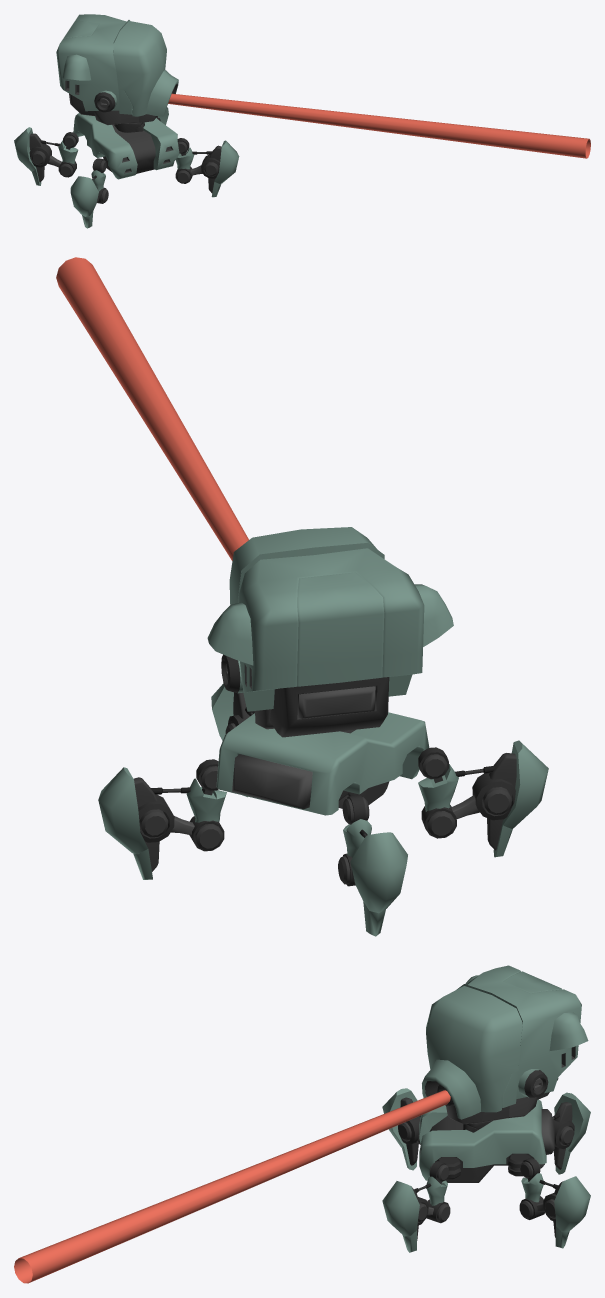
File: 4legMech-1.fbx
The picture shows the model from 3 angles, top to bottom: view 1: azimuth 30°, elevation 25°; view 2: azimuth 150°, elevation 25°; view 3: azimuth 270°, elevation 25°; orthographic projection. The views are drawn at different scales.
Parts seen in each view (by area): view 1: Cylinder, Cube, Cube.004, Cube.001, Cube.003, Cube.006; view 2: Cube, Cube.001, Cube.006, Cylinder, Cube.003, Cube.004; view 3: Cylinder, Cube.004, Cube, Cube.001, Cube.006, Cube.003.
Part boxes in pixels (left/top/right/bottom): Cylinder: left=168, top=93, right=590, bottom=158; Cube: left=56, top=14, right=177, bottom=132; Cube.004: left=113, top=21, right=178, bottom=116; Cube.001: left=73, top=113, right=179, bottom=179; Cube.003: left=70, top=138, right=239, bottom=228; Cube.006: left=14, top=107, right=168, bottom=185; Cube: left=207, top=543, right=453, bottom=737; Cube.001: left=216, top=712, right=429, bottom=815; Cube.006: left=98, top=759, right=407, bottom=936; Cylinder: left=56, top=257, right=248, bottom=560; Cube.003: left=211, top=683, right=548, bottom=857; Cube.004: left=229, top=527, right=377, bottom=604; Cylinder: left=14, top=1090, right=450, bottom=1283; Cube.004: left=422, top=986, right=522, bottom=1119; Cube: left=425, top=965, right=588, bottom=1132; Cube.001: left=419, top=1099, right=554, bottom=1182; Cube.006: left=519, top=1092, right=590, bottom=1248; Cube.003: left=382, top=1088, right=450, bottom=1252.
Size of the model in its own units: 661 by 267 by 643.
